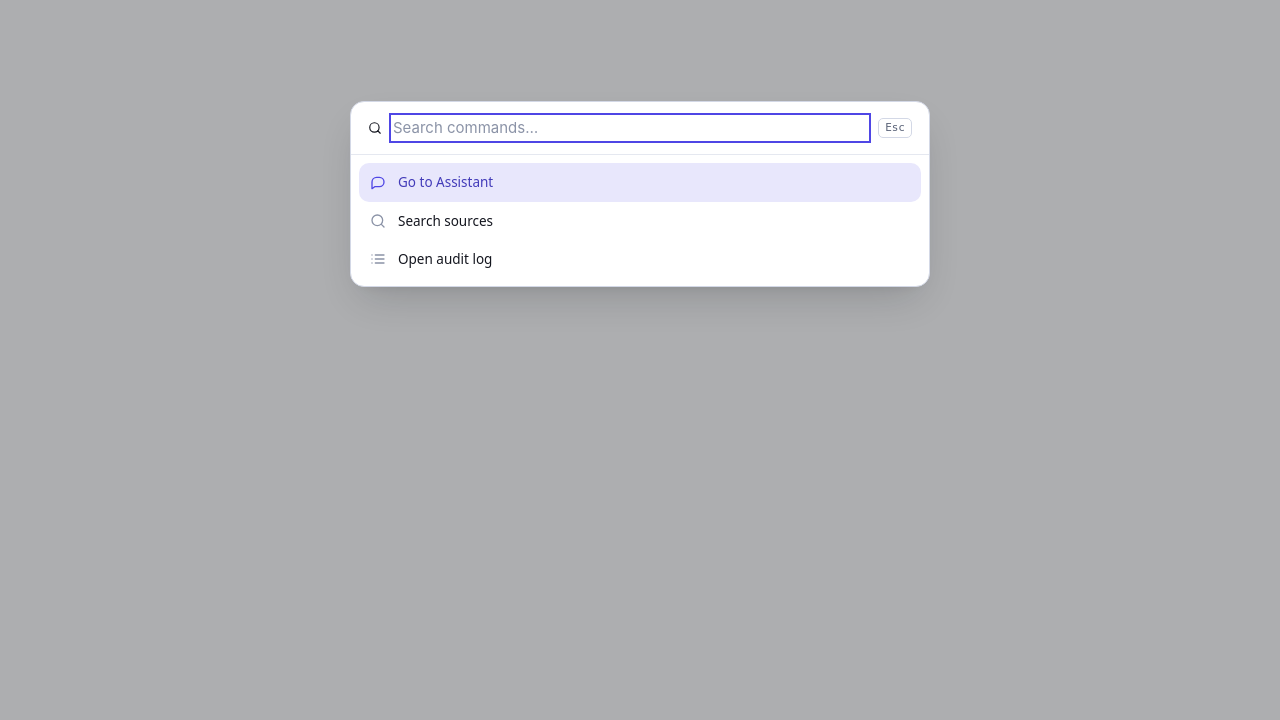
Test: CommandPalette › filters by label and keywords
In the dropdown: coordinates (630, 128) [393,117,867,139], type "find"
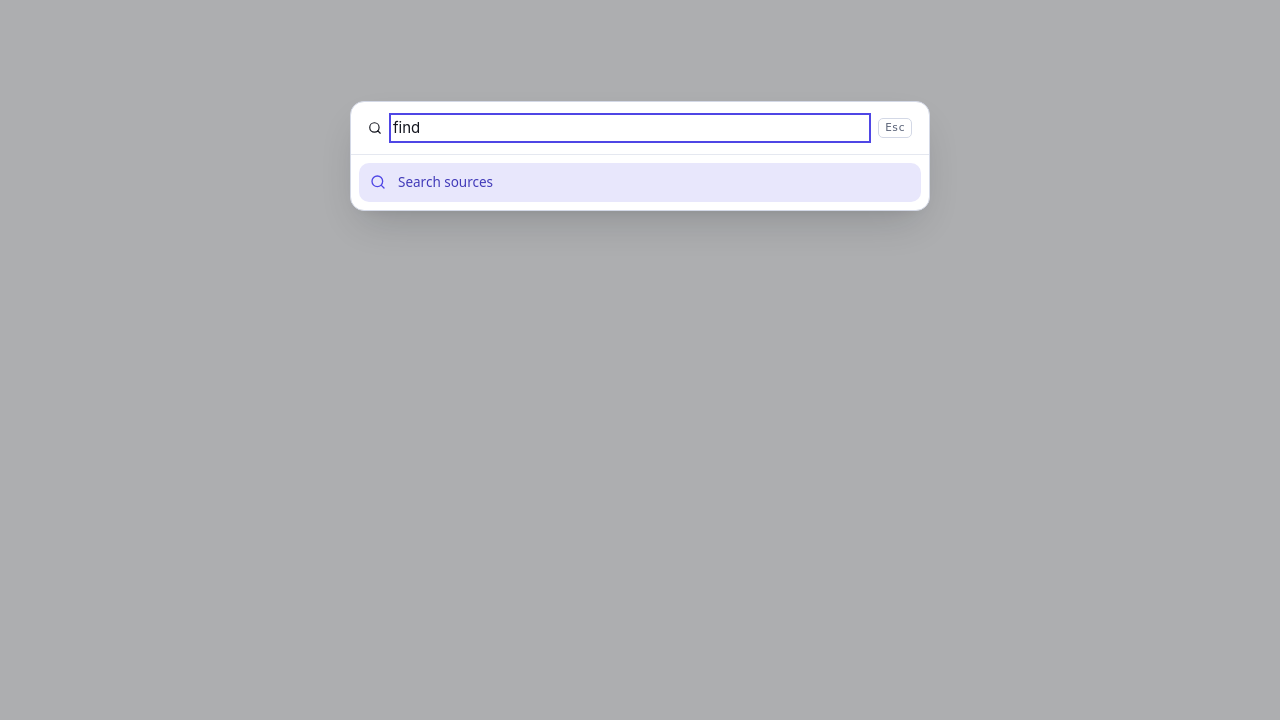
Expected: the option reads "Search sources", [359,163,921,202]
Result: the number of options is 1 at [359,163,921,202]
